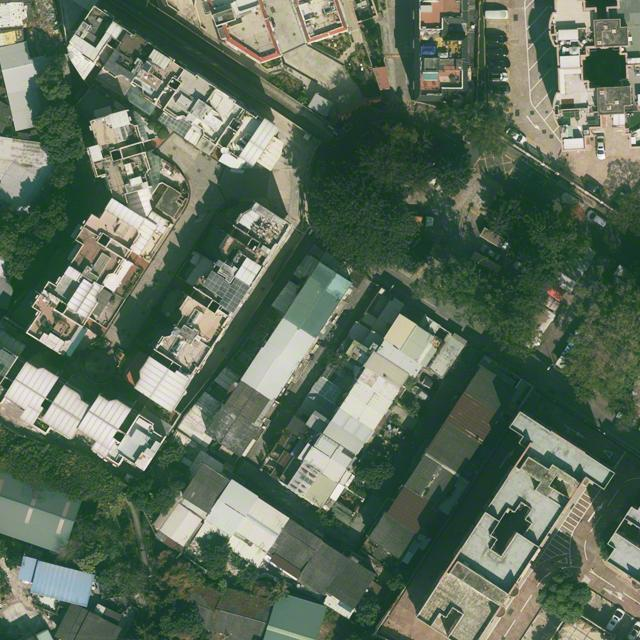panel: (219, 277, 251, 313), (203, 271, 224, 294), (215, 281, 232, 298)
